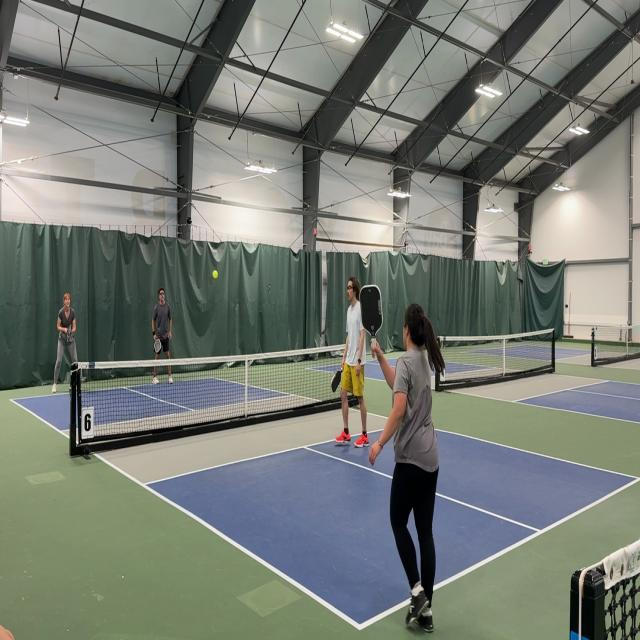ball: (212, 267, 220, 281)
